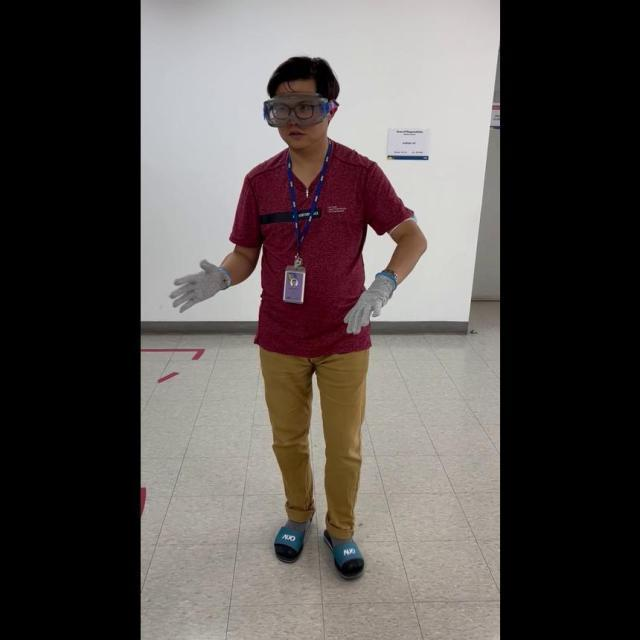gloved_hand: (169, 253, 232, 315), (341, 268, 397, 336)
